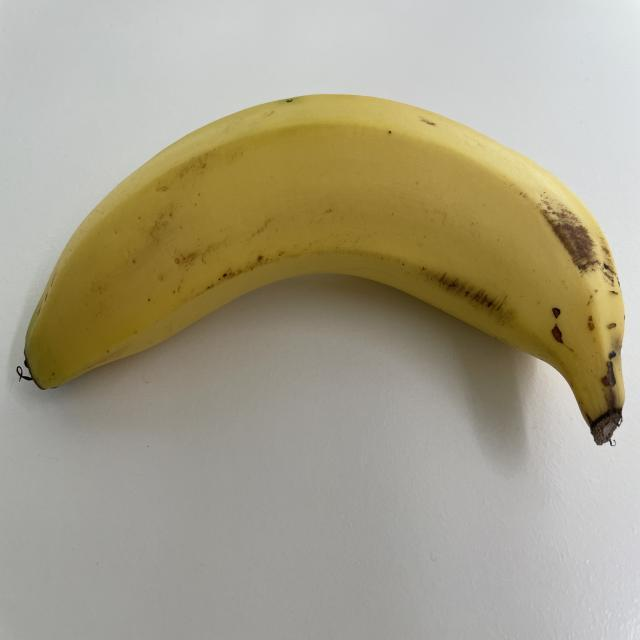Banana: (17, 88, 627, 449)
